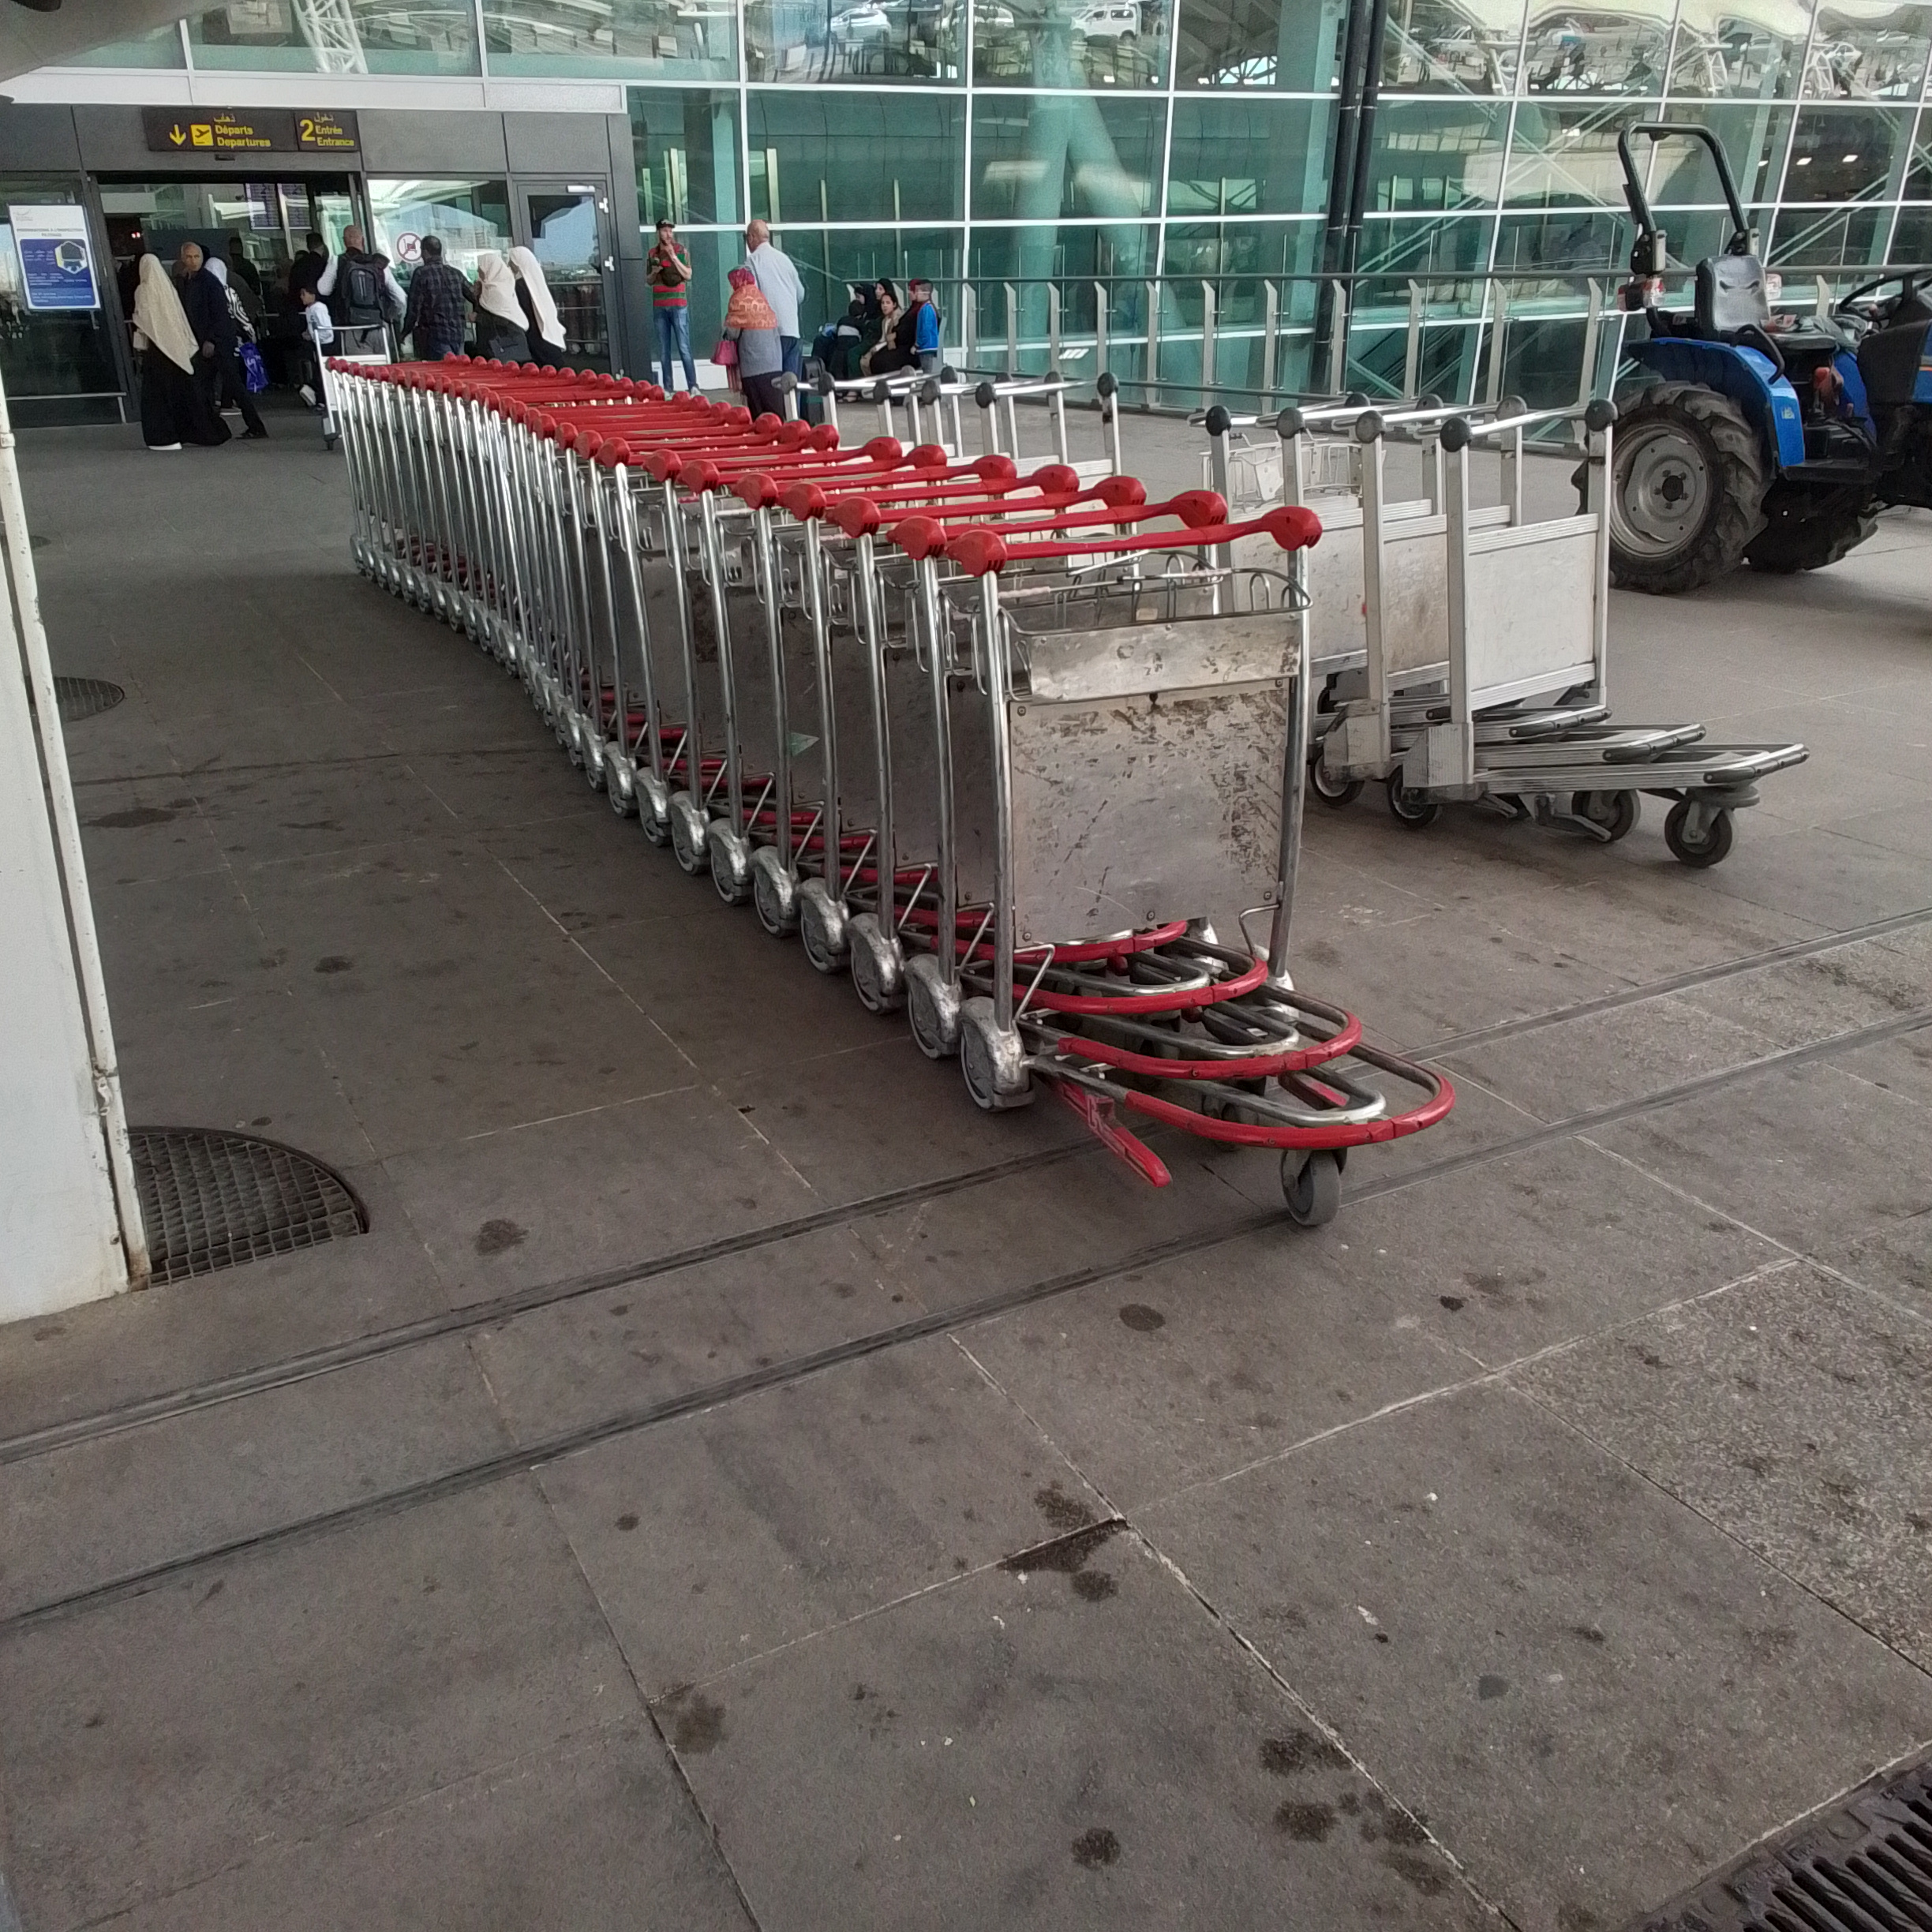airport-trolley: (881, 515, 1401, 1192), (847, 501, 1267, 1111), (1323, 380, 1695, 826), (1417, 410, 1759, 847), (1258, 402, 1470, 847), (782, 467, 870, 1003), (725, 449, 816, 936), (690, 451, 752, 948), (563, 421, 640, 803), (587, 437, 656, 837), (658, 458, 715, 888), (621, 435, 678, 849), (1090, 345, 1228, 479), (973, 370, 1129, 478), (924, 364, 1086, 448), (874, 356, 1001, 441), (748, 366, 936, 421), (814, 361, 939, 430)
